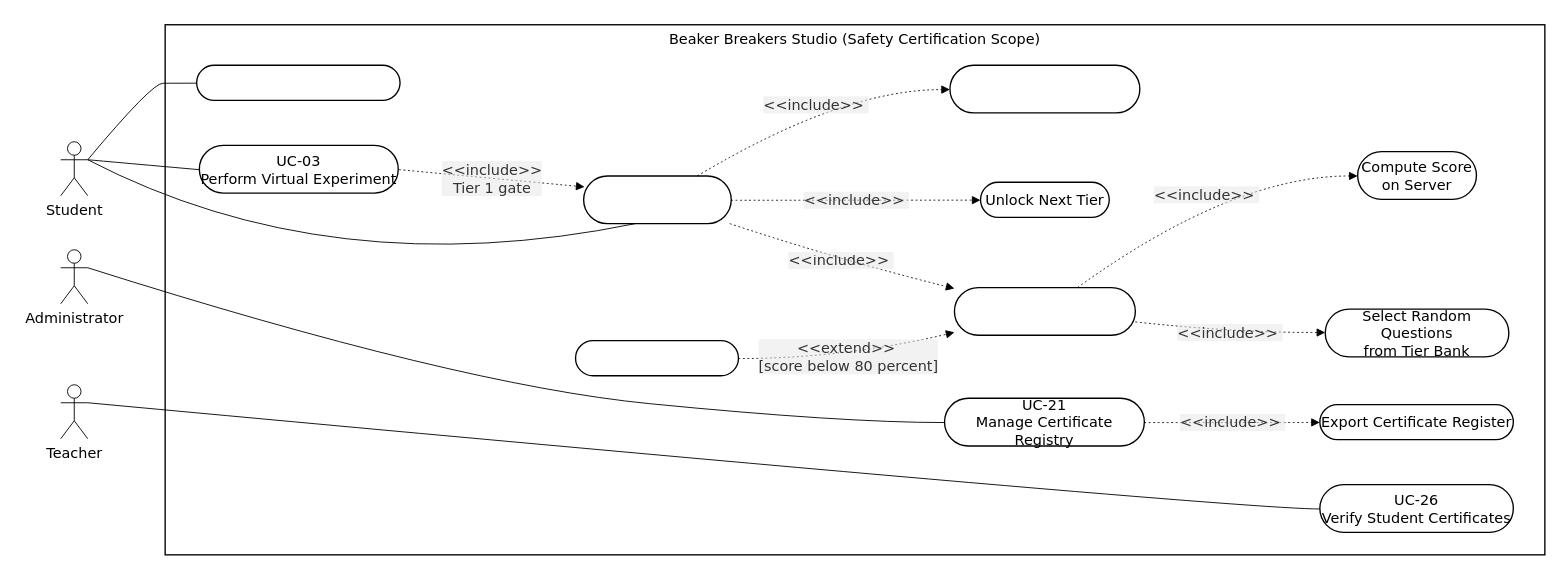
Some shapes in this 1561 by 571 pixel diagram are drawn without their labels. The box of each missing label's shape, as (x1, y1, x2, y2) in pixels:
Reattempt Failed Tier: (574, 340, 739, 376)
UC-02 Safety Certification: (583, 175, 732, 224)
UC-02.1 Attempt Tier Assessment: (953, 286, 1136, 336)
UC-02.2 Receive Safety Certificate: (949, 64, 1140, 113)
View Own Safety Certificate: (196, 64, 400, 101)
